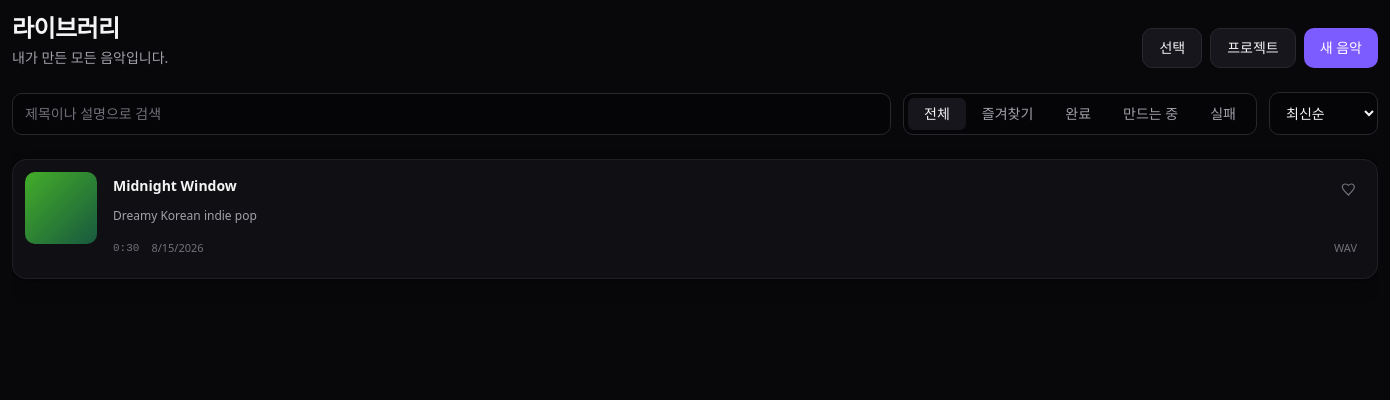
library filtering › says 'no favorites yet' rather than 'no matches'
The image size is (1390, 400).
Expected: the text "Midnight Window" is shown, [113,176,237,196]
Click the tab "즐겨찾기": (1008, 114) [966,98,1049,130]
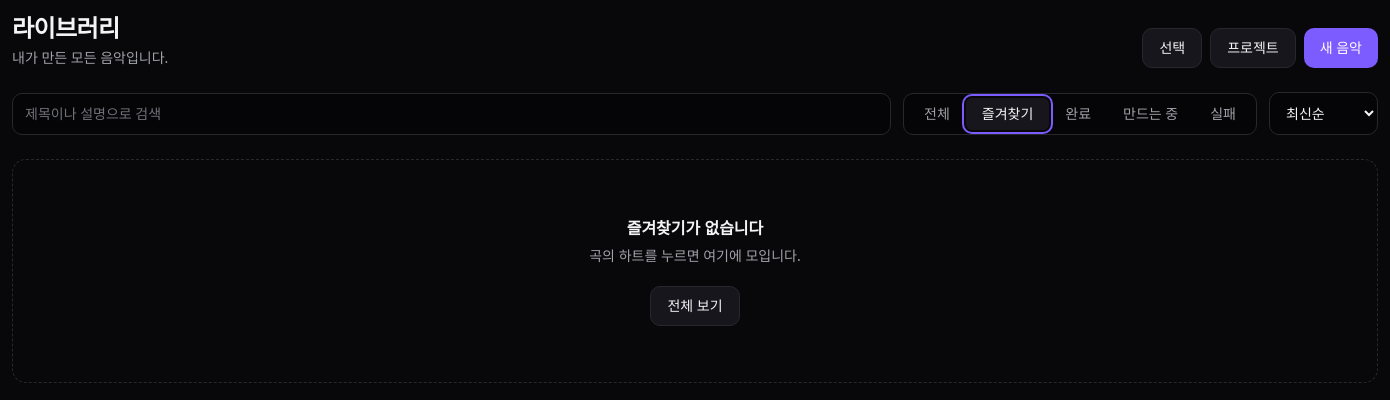
Expected: the heading "즐겨찾기가 없습니다" is shown, [627,216,763,240]
